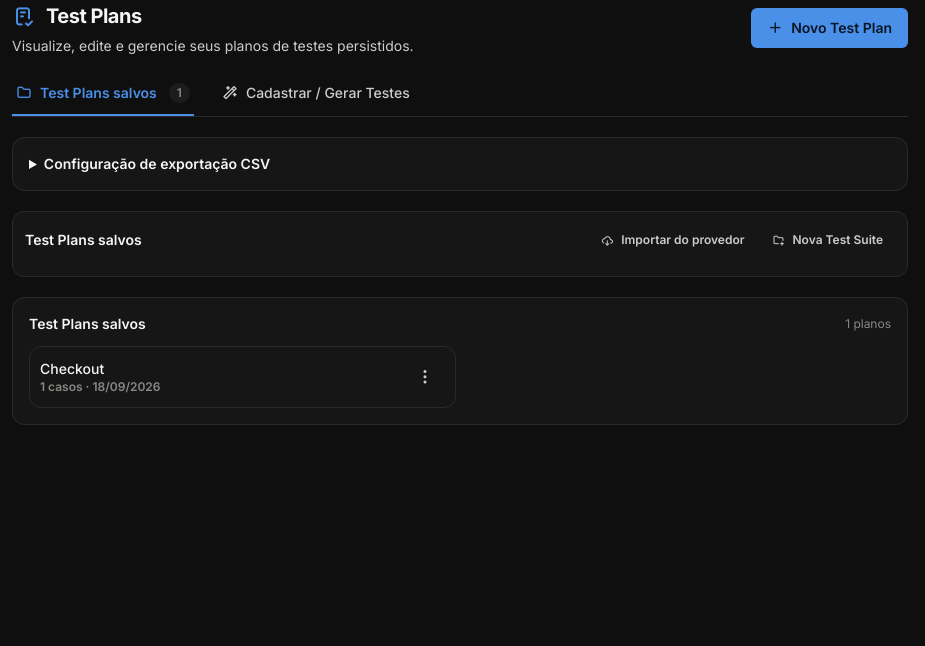
Test case: TestPlansView tab navigation › moves between the saved and create tabs from the header and the tabs
Expected: the element with test id "panel-saved-plans" is shown, [12,211,908,425]
Click the button with test id "btn-new-test-plan" at (830, 28), box [751,8,908,48]
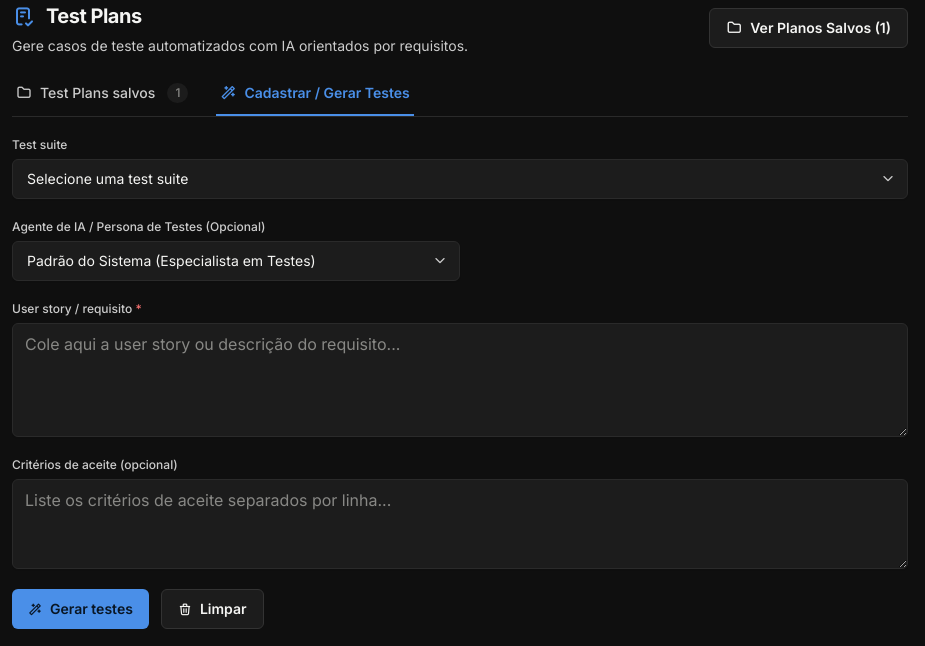
Result: the element with test id "panel-create-plan" is shown
Click the button with test id "btn-view-saved-plans" at (809, 28), box [709,8,908,48]
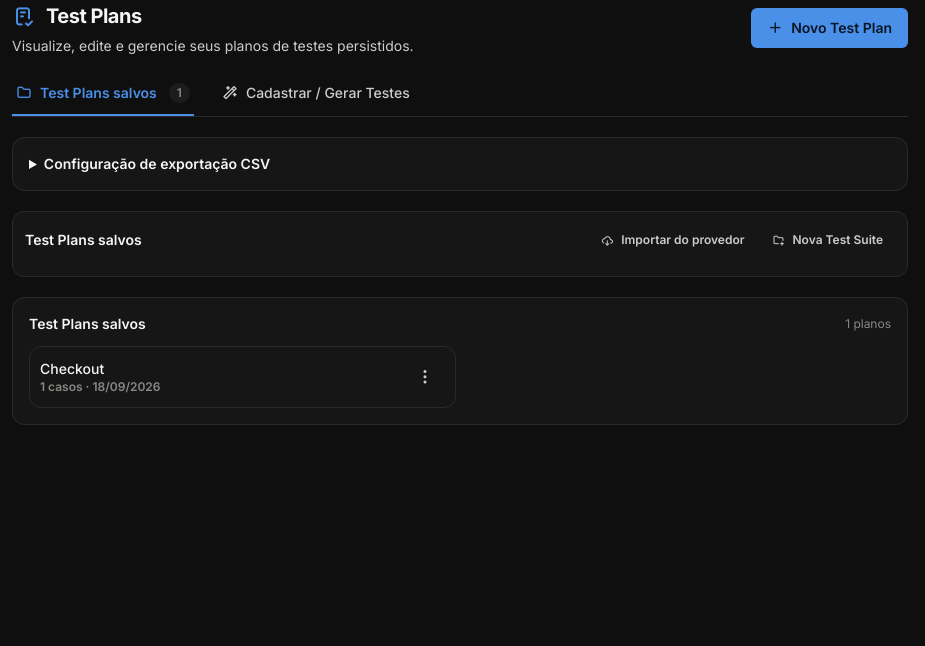
Result: the element with test id "panel-saved-plans" is shown at [12,211,908,425]
Click the button with test id "tab-create-test-plan" at (316, 96), box [218,76,414,116]
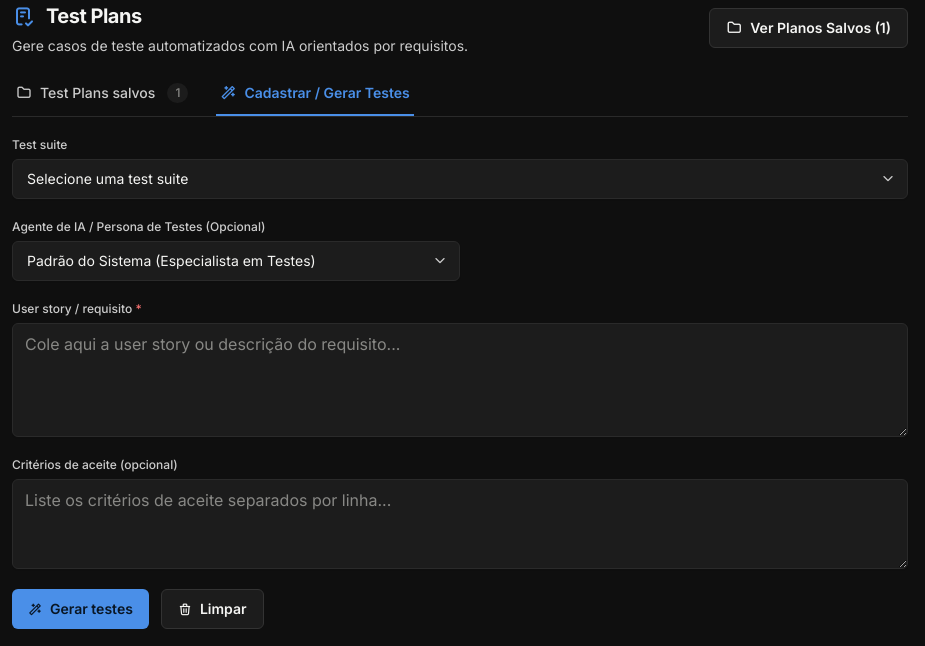
Result: the element with test id "panel-create-plan" is shown
Click the button with test id "tab-saved-test-plans" at (102, 96), box [12,76,192,116]
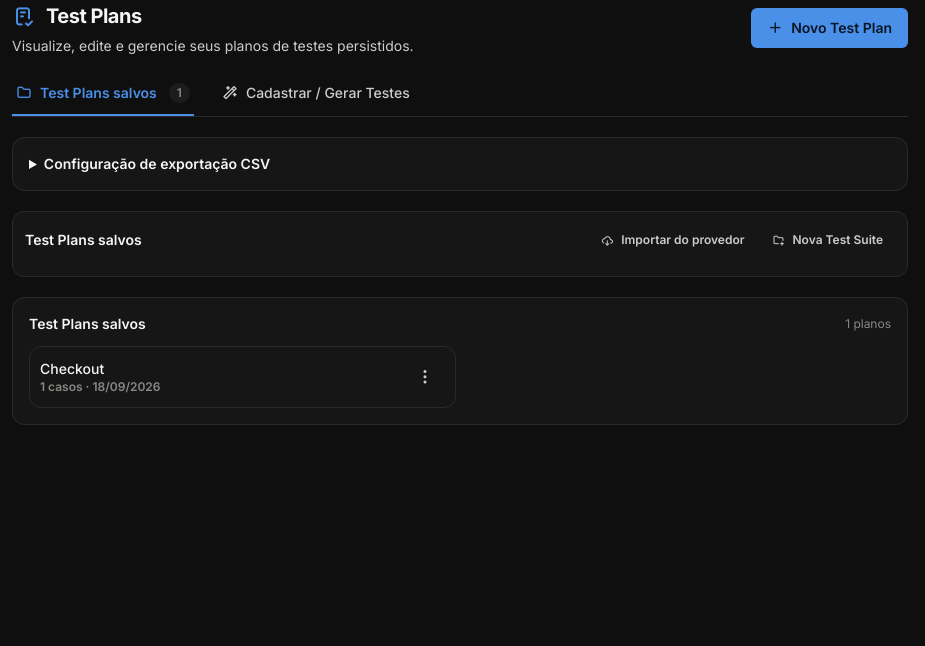
Result: the element with test id "panel-saved-plans" is shown at [12,211,908,425]
